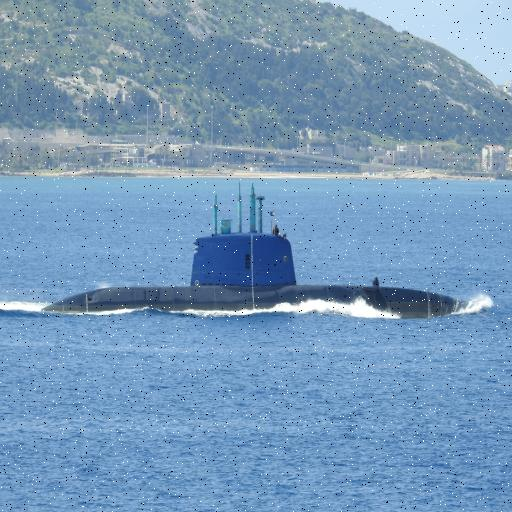submarine: (39, 179, 473, 321)
